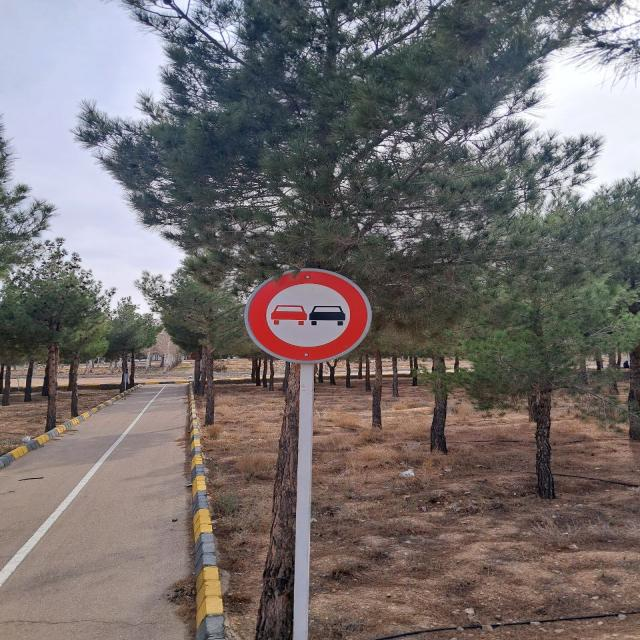no overtaking: (246, 267, 374, 364)
